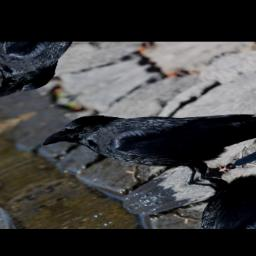Crow: (29, 58, 256, 214)
